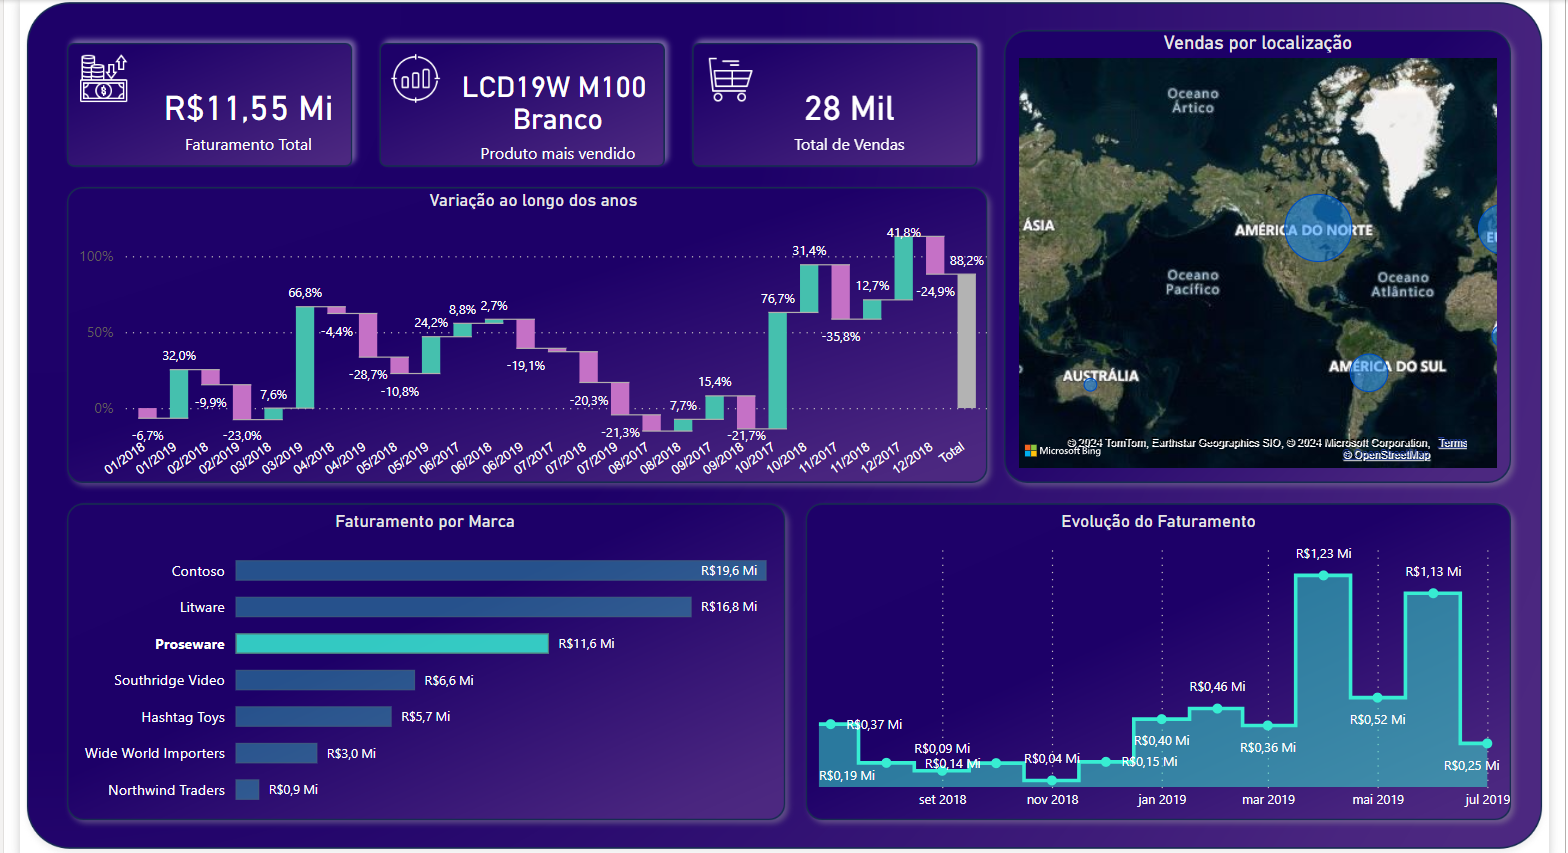

What the dashboard file says about the page in this screenshot:
{"tool":"powerbi","page":{"name":"Página 1","canvas":[1280,720],"ordinal":0},"visuals":[{"type":"card","title":"Faturamento Total","fields":{"Values":["Sum(Vendas.Faturamento)"]},"box":[96.2,56.2,190,81.2],"z":0},{"type":"card","title":"Produto mais vendido","fields":{"Values":["Min(Vendas.Produto)"]},"box":[331.2,46.2,237.5,95],"z":1000},{"type":"barChart","title":"Faturamento por Marca","fields":{"Y":["Sum(Vendas.Faturamento)"],"Category":["Vendas.Marca"]},"box":[38.8,427.5,601.2,260],"z":2000},{"type":"areaChart","title":"Evolução do Faturamento ","fields":{"Category":["Vendas.Data da Venda.Variation.Hierarquia de datas.Ano","Vendas.Data da Venda.Variation.Hierarquia de datas.Mês"],"Y":["Sum(Vendas.Faturamento)"]},"box":[653.8,427.5,598.8,260],"z":3000},{"type":"map","title":"Vendas por localização","fields":{"Category":["Vendas.Continente"],"Size":["Sum(Vendas.Qtd. Vendida)"]},"box":[831.2,26.2,410,371.2],"z":4000},{"type":"card","title":"Total de Vendas","fields":{"Values":["Sum(Vendas.Qtd. Vendida)"]},"box":[540,52.5,308.8,88.8],"z":5000},{"type":"waterfallChart","title":"Variação ao longo dos anos","fields":{"Category":["Variação.Mêses.Variation.Hierarquia de datas.Mês","Variação.Mêses"],"Y":["Sum(Variação.Variação)"]},"box":[43.8,158.8,772.5,250],"z":6000},{"type":"image","box":[568.8,40,52.5,52.5],"z":7000},{"type":"image","box":[43.8,40,52.5,51.2],"z":8000},{"type":"image","box":[305,40,52.5,51.2],"z":9000}]}

Visuals, with their boxes in screenshot pixels (x1, y1, x2, y2):
"Faturamento Total" card: l=92, t=13, r=331, b=115
"Produto mais vendido" card: l=388, t=1, r=686, b=120
"Faturamento por Marca" barChart: l=20, t=480, r=776, b=807
"Evolução do Faturamento " areaChart: l=793, t=480, r=1545, b=807
"Vendas por localização" map: l=1016, t=0, r=1531, b=442
"Total de Vendas" card: l=650, t=9, r=1038, b=120
"Variação ao longo dos anos" waterfallChart: l=26, t=142, r=997, b=456
image: l=686, t=0, r=752, b=59
image: l=26, t=0, r=92, b=57
image: l=355, t=0, r=421, b=57
